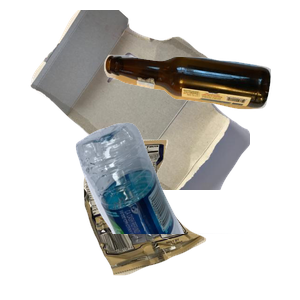glass: (101, 52, 300, 154)
paper: (28, 10, 268, 190)
plastic: (73, 120, 300, 300)
trash: (81, 137, 280, 300)
